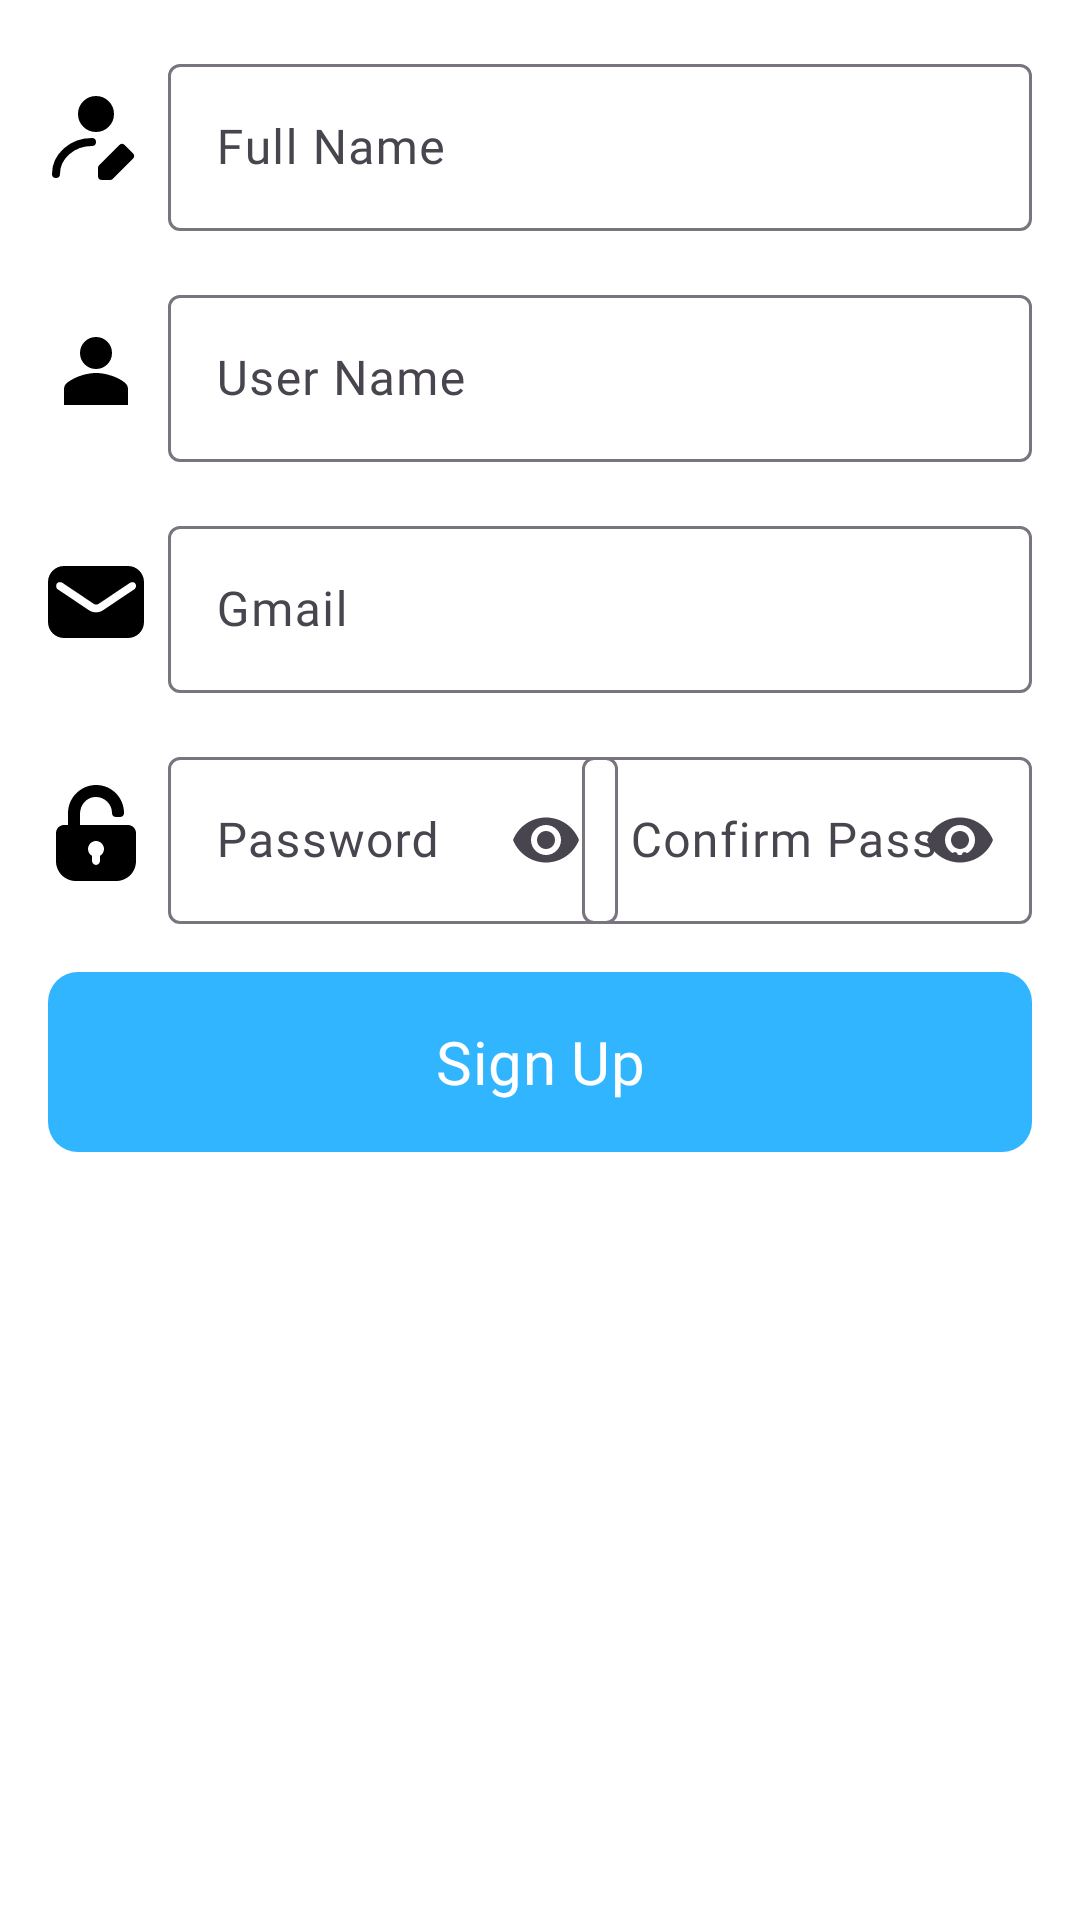

Icons on this 1080 x 1920 Android screen, each with the point to tap as [x,y]:
profile toopor: [96,371]
